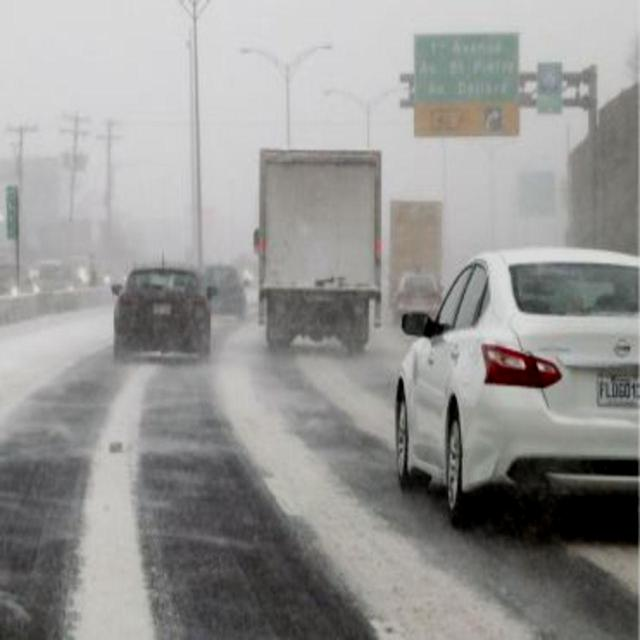Car: (396, 243, 640, 521), (110, 262, 218, 364)
Truck: (253, 144, 385, 352)
